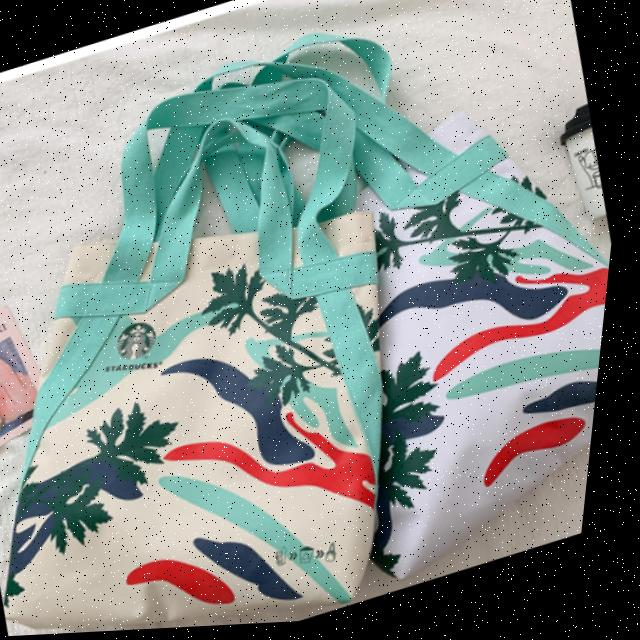ecobag: (0, 62, 472, 640)
